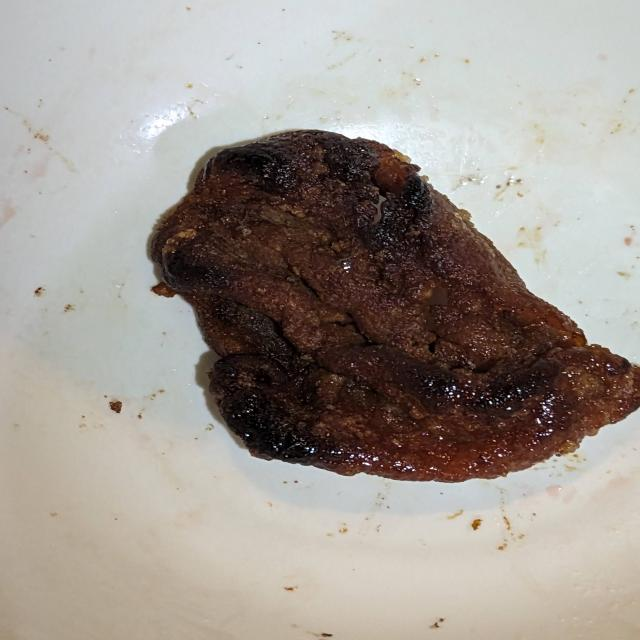overcooked pork: (139, 123, 640, 493)
